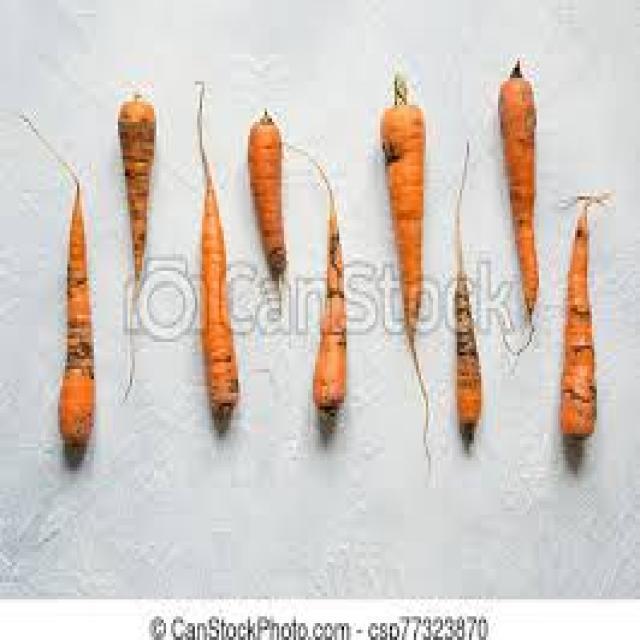biodegradable: (378, 68, 421, 352), (493, 54, 537, 322), (197, 166, 238, 420), (56, 176, 92, 447), (450, 135, 479, 437), (115, 88, 154, 288), (563, 193, 594, 437), (310, 197, 342, 417), (248, 105, 286, 278)
